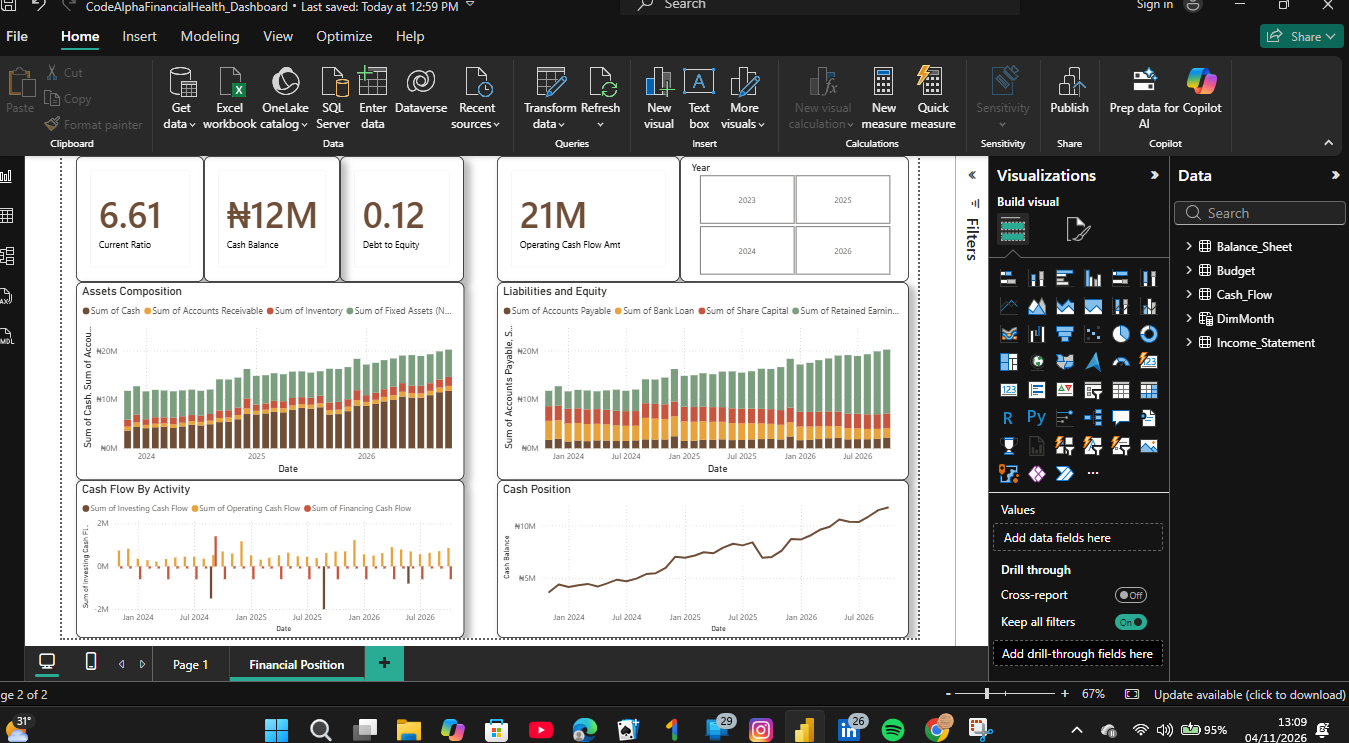

What the dashboard file says about the page in this screenshot:
{"tool":"powerbi","page":{"name":"Financial Position","canvas":[1280,720],"ordinal":1},"visuals":[{"type":"cardVisual","fields":{"Data":["Balance_Sheet.Current Ratio"]},"box":[20.9,0,191.2,188.2],"z":0},{"type":"cardVisual","fields":{"Data":["Balance_Sheet.Debt to Equity"]},"box":[415.3,0,185.2,188.2],"z":1000},{"type":"cardVisual","fields":{"Data":["Balance_Sheet.Cash Balance"]},"box":[212.1,0,203.2,188.2],"z":2000},{"type":"cardVisual","fields":{"Data":["Balance_Sheet.Operating Cash Flow Amt"]},"box":[649.8,0,273.4,188.2],"z":3000},{"type":"columnChart","title":"Assets Composition","fields":{"Category":["DimMonth.Date"],"Y":["Sum(Balance_Sheet.Cash)","Sum(Balance_Sheet.Accounts Receivable)","Sum(Balance_Sheet.Inventory)","Sum(Balance_Sheet.Fixed Assets (Net))"]},"box":[20.9,188.2,579.6,295.8],"z":4000},{"type":"columnChart","title":"Liabilities and Equity","fields":{"Category":["DimMonth.Date"],"Y":["Sum(Balance_Sheet.Accounts Payable)","Sum(Balance_Sheet.Bank Loan)","Sum(Balance_Sheet.Share Capital)","Sum(Balance_Sheet.Retained Earnings)"]},"box":[649.8,188.2,615.4,295.8],"z":5000},{"type":"clusteredColumnChart","title":"Cash Flow By Activity","fields":{"Category":["DimMonth.Date"],"Y":["Sum(Cash_Flow.Investing Cash Flow)","Sum(Cash_Flow.Operating Cash Flow)","Sum(Cash_Flow.Financing Cash Flow)"]},"box":[20.9,484,579.6,236],"z":6000},{"type":"lineChart","title":"Cash Position","fields":{"Category":["DimMonth.Date"],"Y":["Balance_Sheet.Cash Balance"]},"box":[650,484,615,236],"z":7000},{"type":"slicer","fields":{"Values":["DimMonth.Year"]},"box":[923.2,0,342.1,188.2],"z":8000}]}

Visuals, with their boxes on the page's 1280x720 design canvas (x1, y1, x2, y2). These are canvas units, not pixel positions in the 1349x743 screenshot, which may show the page scaled, cropped or inside an application window:
cardVisual - Balance_Sheet.Current Ratio: crop(21, 0, 212, 188)
cardVisual - Balance_Sheet.Debt to Equity: crop(415, 0, 600, 188)
cardVisual - Balance_Sheet.Cash Balance: crop(212, 0, 415, 188)
cardVisual - Balance_Sheet.Operating Cash Flow Amt: crop(650, 0, 923, 188)
"Assets Composition" columnChart: crop(21, 188, 600, 484)
"Liabilities and Equity" columnChart: crop(650, 188, 1265, 484)
"Cash Flow By Activity" clusteredColumnChart: crop(21, 484, 600, 720)
"Cash Position" lineChart: crop(650, 484, 1265, 720)
slicer - DimMonth.Year: crop(923, 0, 1265, 188)
